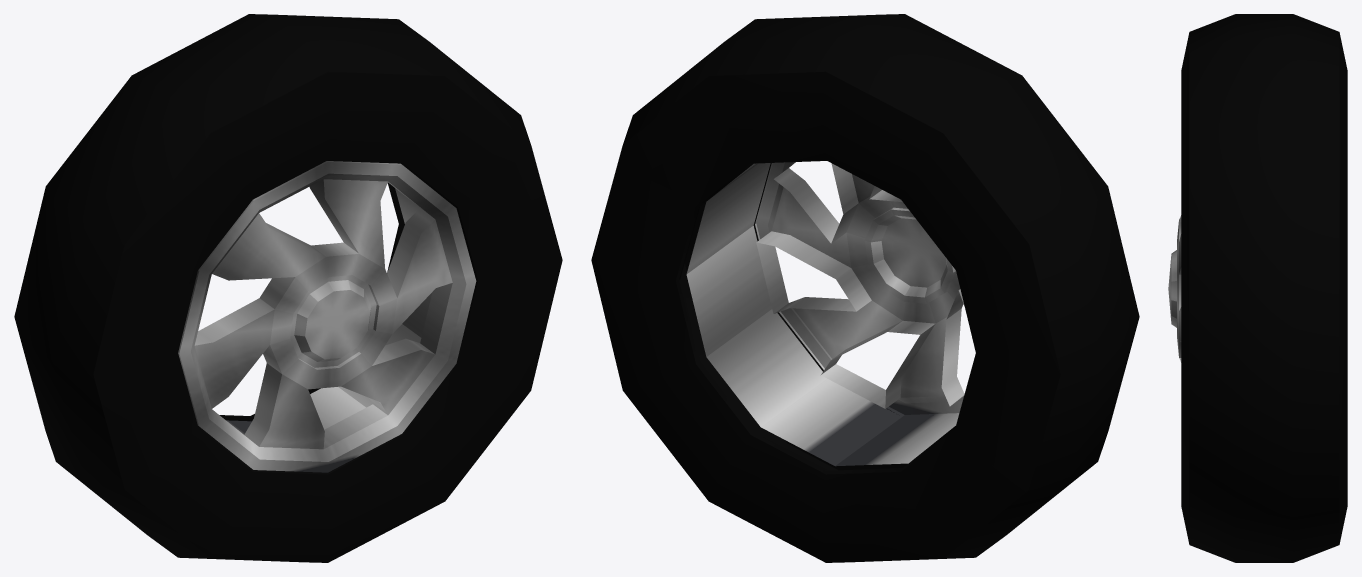
File: tire1.FBX
3 renders of one model, left to right at view 1: azimuth 30°, elevation 25°; view 2: azimuth 150°, elevation 25°; view 3: azimuth 270°, elevation 25°, orthographic. The views are drawn at different scales.
Visible parts, largest first — view 1: tire, Sphere001; view 2: tire, Sphere001; view 3: tire, Sphere001.
Part boxes in pixels (x1,y1,x2,y2): tire: (14,14,562,562); Sphere001: (178,161,476,472); tire: (591,14,1139,562); Sphere001: (686,162,964,466); tire: (1181,14,1347,562); Sphere001: (1168,215,1181,362).
Size of the model in its own units: 120 by 120 by 39.2.
